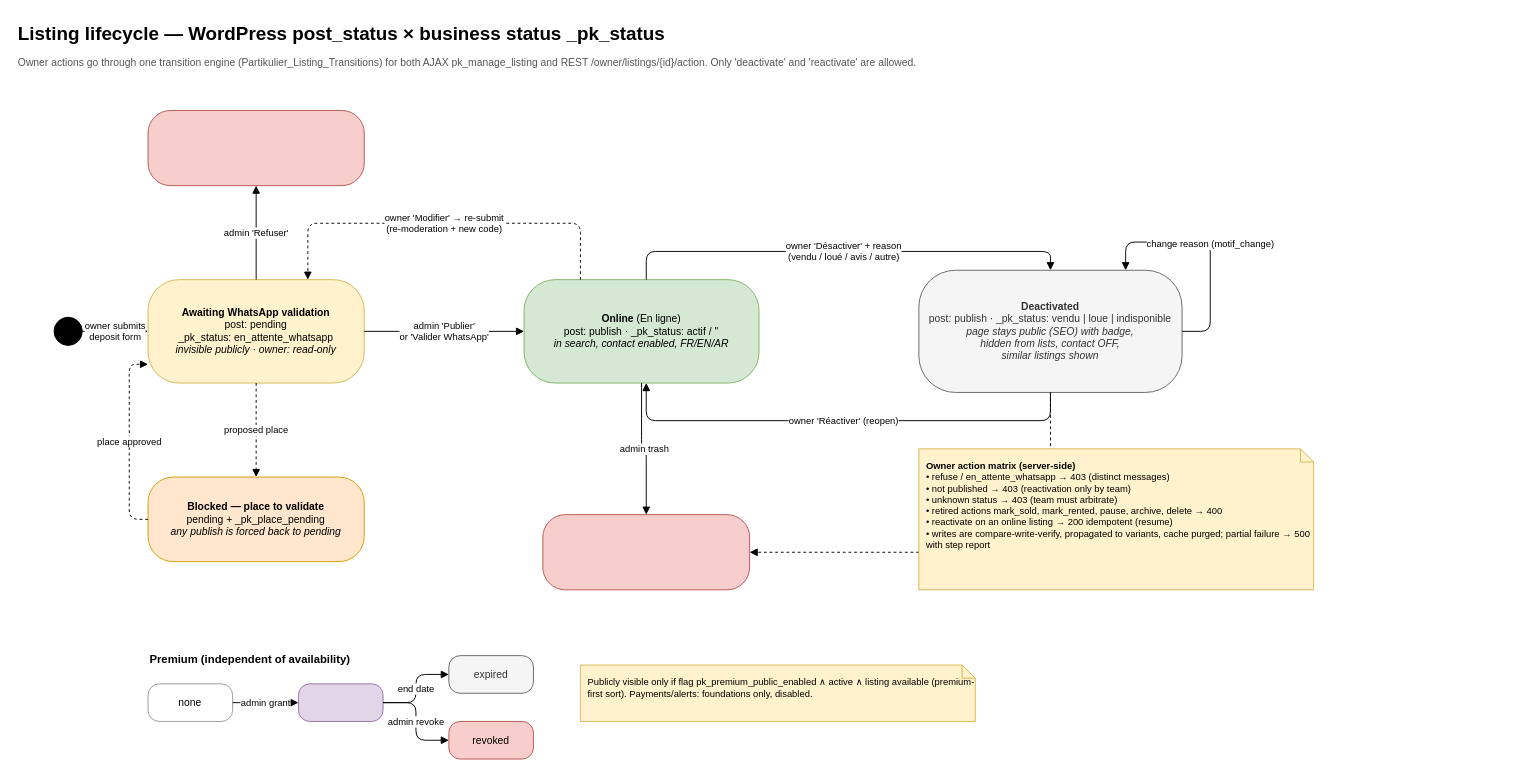
Image size: 1536x776. Some labels were removed from this diagram. The shapes that lost their labels are listed below. From the top down, each one's centre as x and y in pixels, then its label:
[255,148]: Refused post: draft · _pk_status: refuse owner cannot act (403)
[646,552]: Trash EN/AR variants trashed too restore by team only
[340,702]: active
